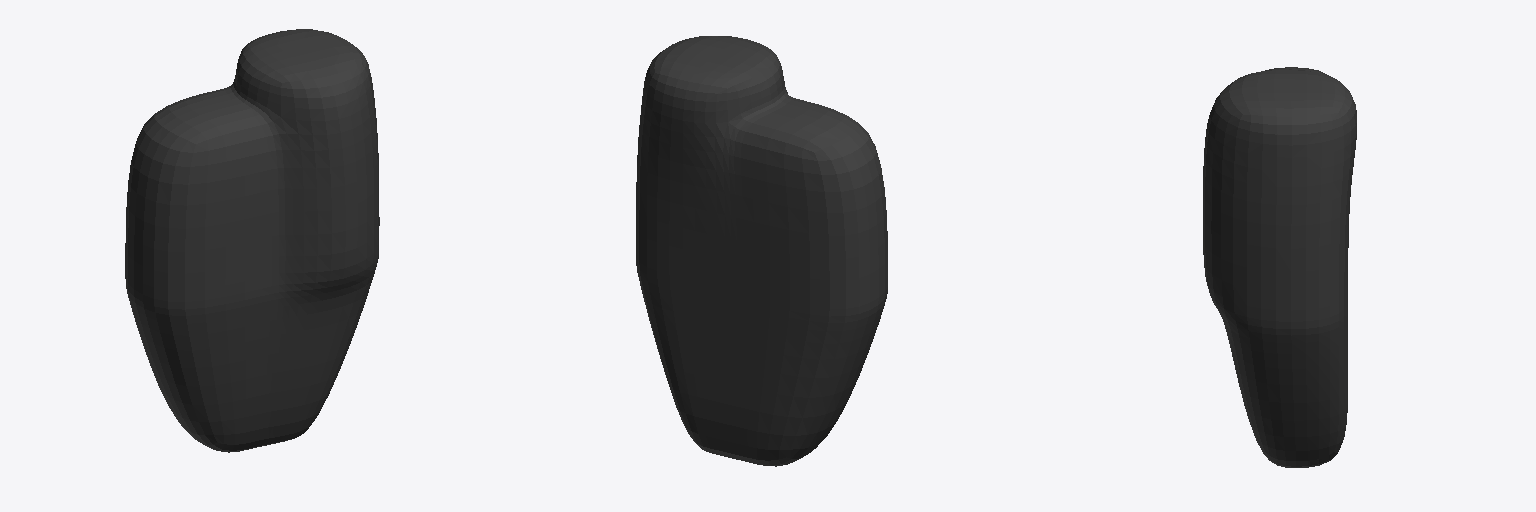
Rendered from Left_Engine.obj.
The picture shows the model from 3 angles: view 1: azimuth 30°, elevation 25°; view 2: azimuth 150°, elevation 25°; view 3: azimuth 270°, elevation 25°; orthographic projection.
Visible parts, largest first — view 1: Left_Engine_Cube.016; view 2: Left_Engine_Cube.016; view 3: Left_Engine_Cube.016.
Part boxes in pixels (left/top/right/bottom): Left_Engine_Cube.016: left=125, top=29, right=379, bottom=452; Left_Engine_Cube.016: left=636, top=36, right=887, bottom=466; Left_Engine_Cube.016: left=1203, top=67, right=1356, bottom=467.
Bounding box in the file's own units: 2.85 × 4.51 × 1.64.